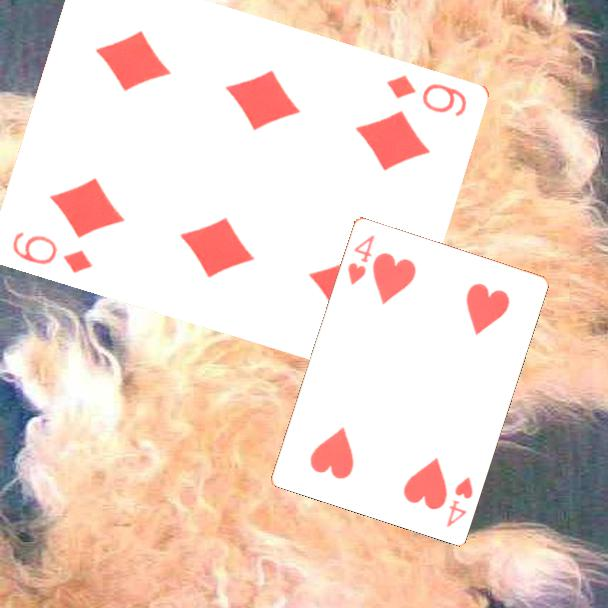d06: (384, 70, 471, 120), (9, 228, 97, 276)
h04: (442, 473, 476, 530), (344, 231, 377, 287)
